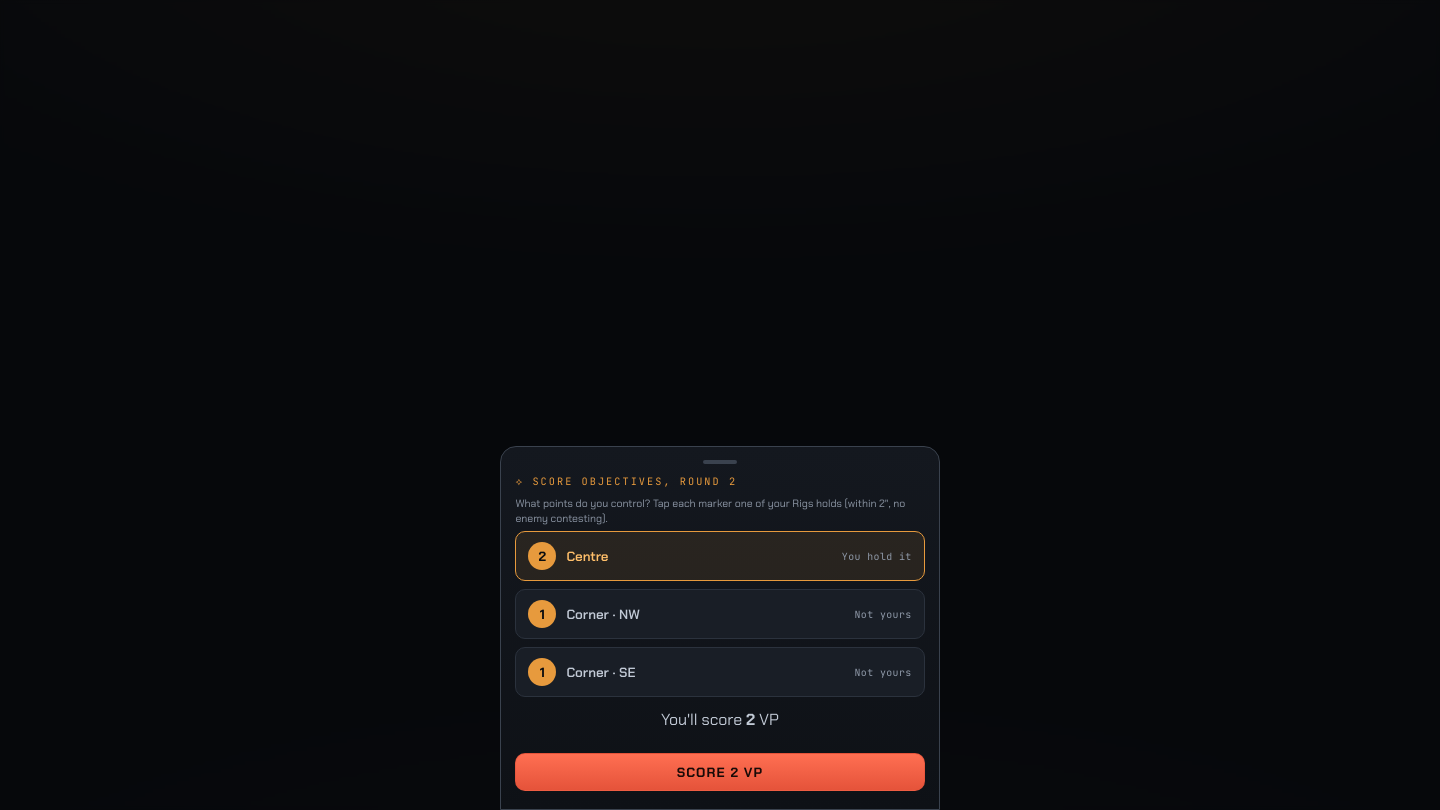
Test: toggling a prefilled marker off lowers the total
This screenshot has width=1440, height=810.
Check: the button "Score 2 VP" is shown, box [515,753,925,791]
Click the text "Centre".
click(587, 556)  # box [566,548,608,565]
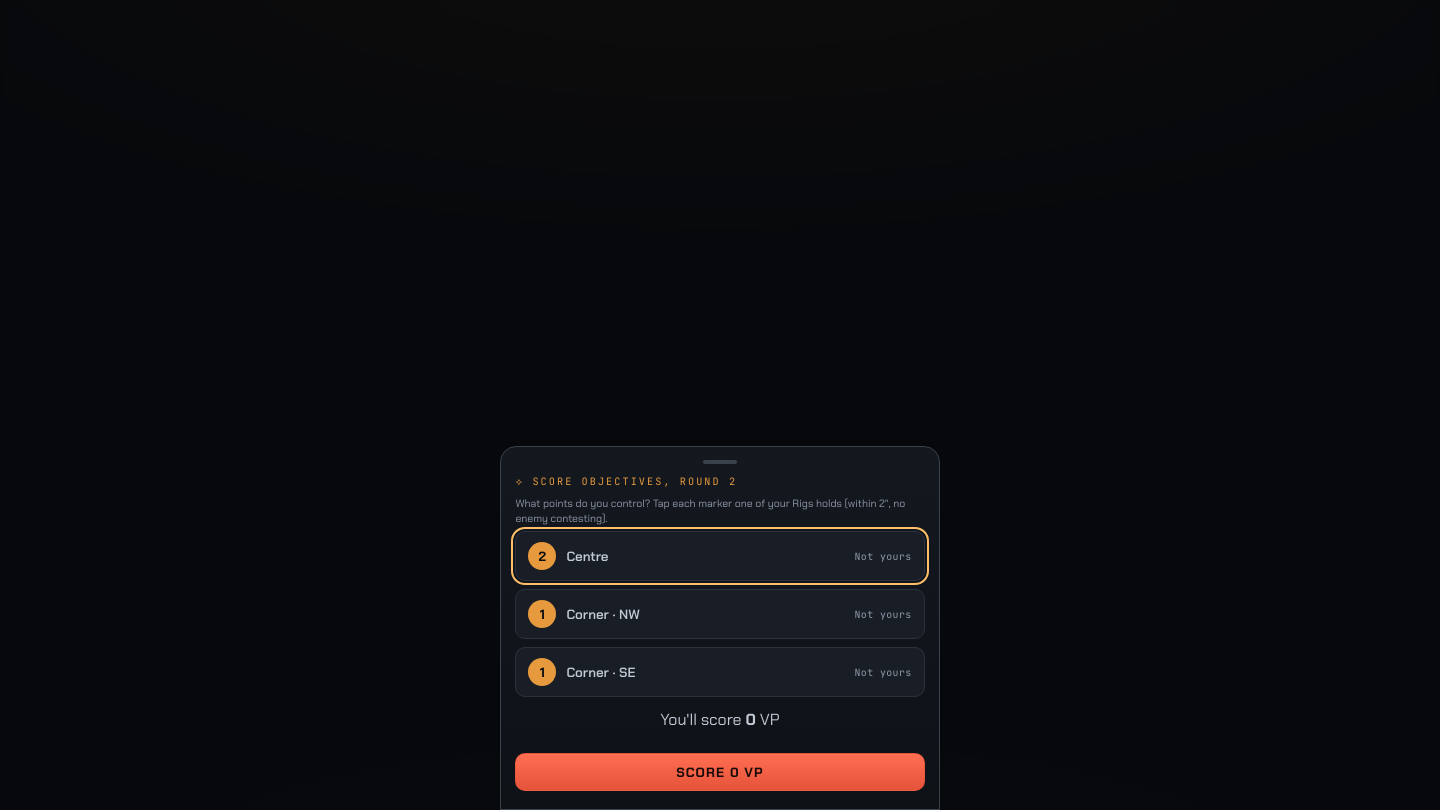
Check: the button "Score 0 VP" is shown, box [515,753,925,791]
